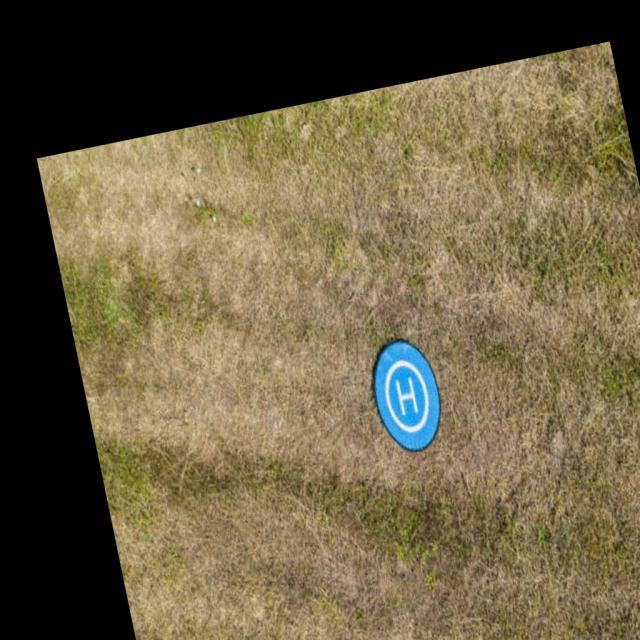helipad: (382, 356, 431, 434)
